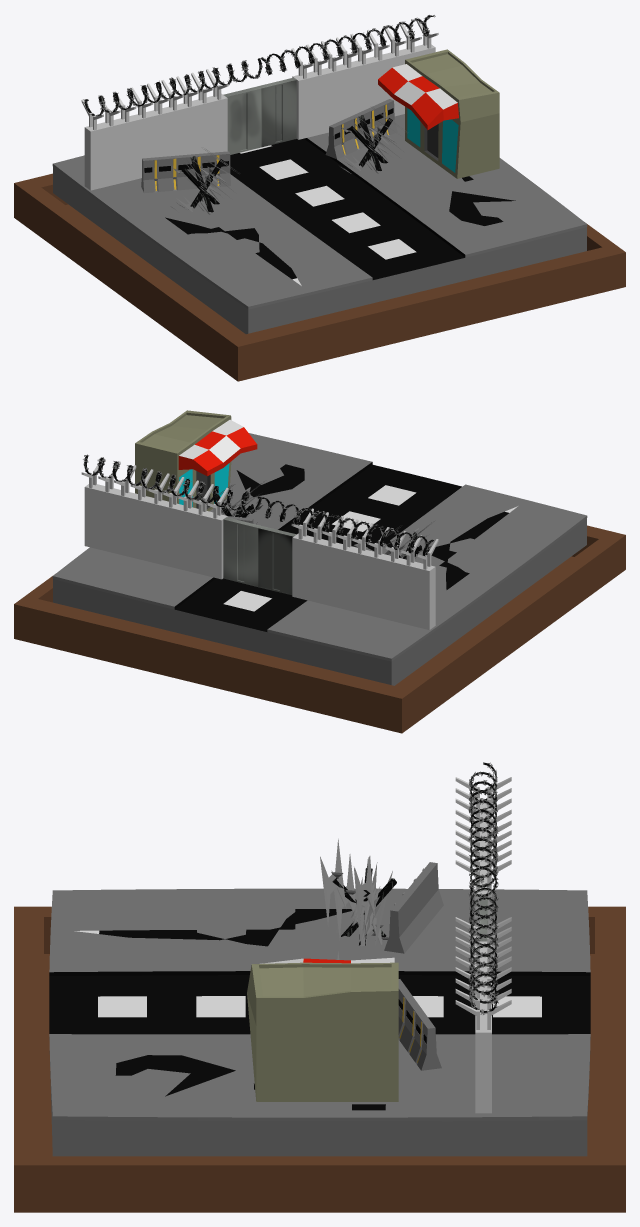
Rendered from Items.fbx.
3 renders of one model, top to bottom at view 1: azimuth 30°, elevation 25°; view 2: azimuth 150°, elevation 25°; view 3: azimuth 270°, elevation 25°, orthographic. The views are drawn at different scales.
Parts seen in each view (by area): view 1: Cube.002, board002, Walls, Cube.001, RaodBlock 2.001, Fence, Gate.001, Gate, RaodBlock 2, Raod Block, Raod Block.001; view 2: Cube.002, board002, Walls, Cube.001, Fence, Gate.001, Gate; view 3: Cube.002, board002, Cube.001, Walls, Fence, RaodBlock 2.001, RaodBlock 2, Raod Block.001|Cube|Dupli|8, Raod Block.001.
Part boxes in pixels (x1,y1,x2,y2): Cube.002: [52, 114, 587, 334]; board002: [14, 173, 625, 381]; Walls: [81, 18, 438, 190]; Cube.001: [378, 49, 499, 178]; RaodBlock 2.001: [141, 151, 230, 193]; Fence: [84, 15, 433, 115]; Gate.001: [258, 77, 296, 147]; Gate: [223, 86, 261, 154]; RaodBlock 2: [325, 99, 397, 159]; Raod Block: [350, 115, 392, 170]; Raod Block.001: [181, 156, 224, 212]; Cube.002: [52, 433, 587, 685]; board002: [14, 525, 625, 733]; Walls: [81, 457, 438, 629]; Cube.001: [135, 410, 257, 511]; Fence: [84, 455, 433, 556]; Gate.001: [223, 517, 260, 586]; Gate: [258, 526, 296, 594]; Cube.002: [49, 888, 590, 1156]; board002: [14, 906, 625, 1212]; Cube.001: [247, 957, 398, 1101]; Walls: [455, 777, 511, 1113]; Fence: [470, 762, 496, 1012]; RaodBlock 2.001: [384, 862, 443, 953]; RaodBlock 2: [398, 979, 441, 1070]; Raod Block.001|Cube|Dupli|8: [320, 839, 346, 926]; Raod Block.001: [332, 868, 396, 945].
Size of the model in its own units: 30.62 by 11.44 by 30.61.
